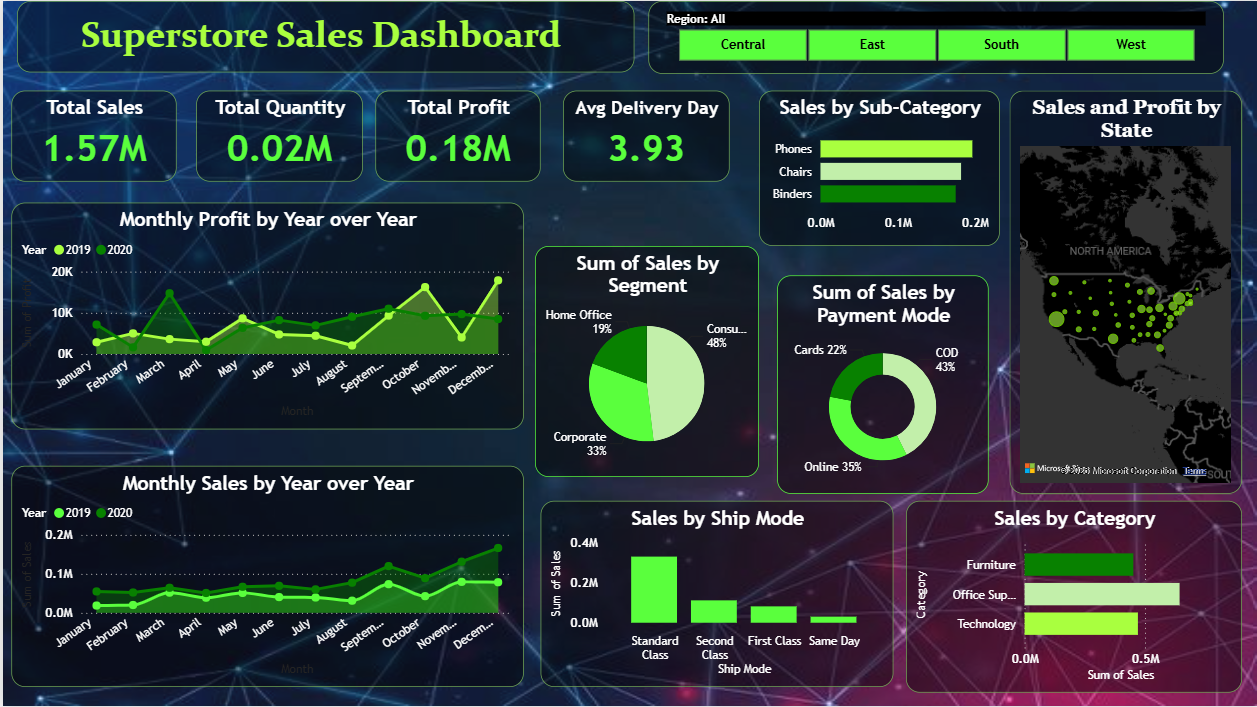

The dashboard page shown, as its layout file describes it:
{"tool":"powerbi","page":{"name":"dashboard","canvas":[1280,720],"ordinal":0},"visuals":[{"type":"clusteredBarChart","title":"Sales by Category","fields":{"Category":["Sheet1.Category"],"Y":["Sum(Sheet1.Sales)"]},"box":[921.4,510,342.9,195.7],"z":0},{"type":"barChart","title":"Sales by Sub-Category","fields":{"Category":["Sheet1.Sub-Category"],"Y":["Sum(Sheet1.Sales)"]},"box":[771.4,91.4,245.7,158.6],"z":1000},{"type":"clusteredColumnChart","title":"Sales by Ship Mode","fields":{"Category":["Sheet1.Ship Mode"],"Y":["Sum(Sheet1.Sales)"]},"box":[548.6,510,360,190],"z":2000},{"type":"areaChart","title":"Monthly Sales by Year over Year","fields":{"Y":["Sum(Sheet1.Sales)"],"Category":["Sheet1.Order Date.Variation.Date Hierarchy.Month","Sheet1.Order Date.Variation.Date Hierarchy.Day"],"Series":["Sheet1.Order Date.Variation.Date Hierarchy.Year"]},"box":[8.6,474.3,522.9,225.7],"z":3000},{"type":"areaChart","title":"Monthly Profit by Year over Year","fields":{"Category":["Sheet1.Order Date.Variation.Date Hierarchy.Month","Sheet1.Order Date.Variation.Date Hierarchy.Day"],"Series":["Sheet1.Order Date.Variation.Date Hierarchy.Year"],"Y":["Sum(Sheet1.Profit)"]},"box":[8.6,205.7,522.9,231.4],"z":4000},{"type":"map","title":"Sales and Profit by State","fields":{"Category":["Sheet1.State"],"Size":["Sum(Sheet1.Sales)"]},"box":[1027.1,91.4,237.1,411.4],"z":5000},{"type":"donutChart","fields":{"Category":["Sheet1.Payment Mode"],"Y":["Sum(Sheet1.Sales)"]},"box":[790,280,215.7,222.9],"z":6000},{"type":"slicer","fields":{"Values":["Sheet1.Region"]},"box":[658.6,0,587.1,74.3],"z":8000},{"type":"pieChart","fields":{"Category":["Sheet1.Segment"],"Y":["Sum(Sheet1.Sales)"]},"box":[542.9,250,228.6,235.7],"z":8500},{"type":"textbox","box":[14.3,0,630,72.9],"z":9000},{"type":"card","title":"Total Sales","fields":{"Values":["Sum(Sheet1.Sales)"]},"box":[8.6,91.4,168.6,92.9],"z":11000},{"type":"card","title":"Total Profit","fields":{"Values":["Sum(Sheet1.Profit)"]},"box":[380,91.4,168.6,92.9],"z":12000},{"type":"card","title":"Total Quantity ","fields":{"Values":["Sum(Sheet1.Quantity)"]},"box":[197.1,91.4,170,92.9],"z":13000},{"type":"card","title":"Avg Delivery Day","fields":{"Values":["Avg(Sheet1.AvgDeliveryDays)"]},"box":[571.4,91.4,170,92.9],"z":14000}]}

Visuals, with their boxes in screenshot pixels (x1, y1, x2, y2), scaled from the page's 1280x720 canvas onto the 1257x707 screenshot:
"Sales by Category" clusteredBarChart: 905,501,1242,693
"Sales by Sub-Category" barChart: 758,90,999,245
"Sales by Ship Mode" clusteredColumnChart: 539,501,892,687
"Monthly Sales by Year over Year" areaChart: 8,466,522,687
"Monthly Profit by Year over Year" areaChart: 8,202,522,429
"Sales and Profit by State" map: 1009,90,1241,494
donutChart - Sheet1.Payment Mode x Sum(Sheet1.Sales): 776,275,988,494
slicer - Sheet1.Region: 647,0,1223,73
pieChart - Sheet1.Segment x Sum(Sheet1.Sales): 533,245,758,477
textbox: 14,0,633,72
"Total Sales" card: 8,90,174,181
"Total Profit" card: 373,90,539,181
"Total Quantity " card: 194,90,361,181
"Avg Delivery Day" card: 561,90,728,181
